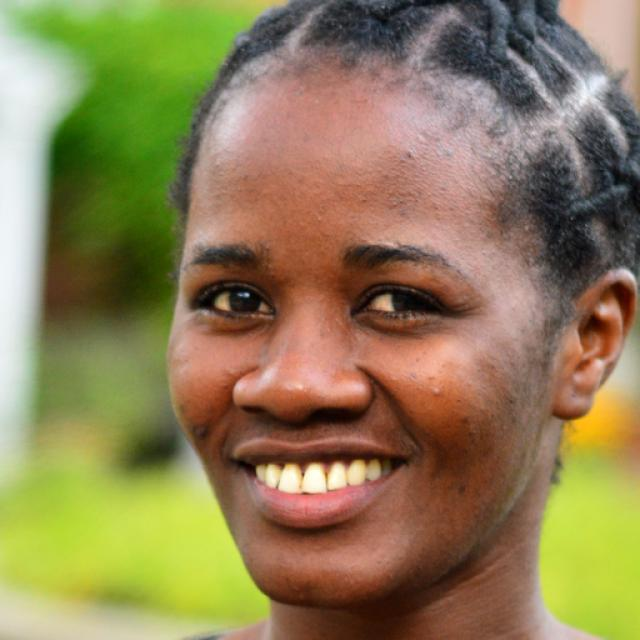Acne: (377, 187, 408, 214), (423, 384, 446, 403), (386, 373, 405, 394), (215, 379, 236, 394), (423, 363, 437, 385)
